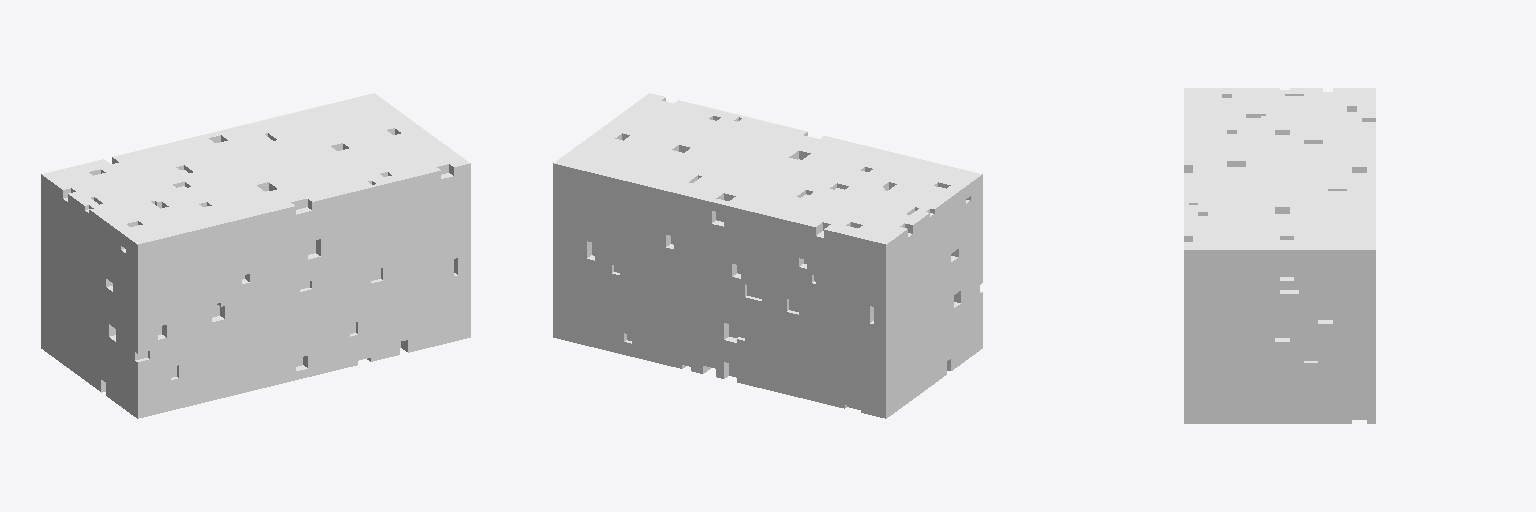
The model's file is LargeRocks-3-Rock2_LOD0.obj.
The picture shows the model from 3 angles: view 1: azimuth 30°, elevation 25°; view 2: azimuth 150°, elevation 25°; view 3: azimuth 270°, elevation 25°; orthographic projection.
Visible parts, largest first — view 1: Rock2_LOD0; view 2: Rock2_LOD0; view 3: Rock2_LOD0.
Boxes of the visible parts, box(x1,y1,x2,y2) form: Rock2_LOD0: box(41, 93, 470, 418); Rock2_LOD0: box(553, 93, 982, 418); Rock2_LOD0: box(1184, 88, 1375, 423).
Size of the model in its own units: 8 by 4 by 4.